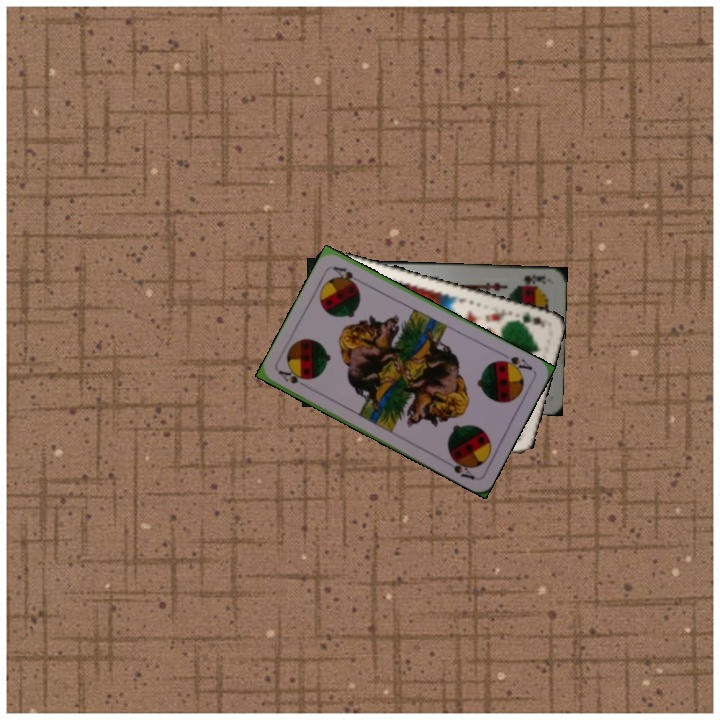GK: (508, 308, 549, 331)
SA: (495, 349, 535, 375), (274, 366, 312, 391)
SK: (513, 270, 549, 289)
